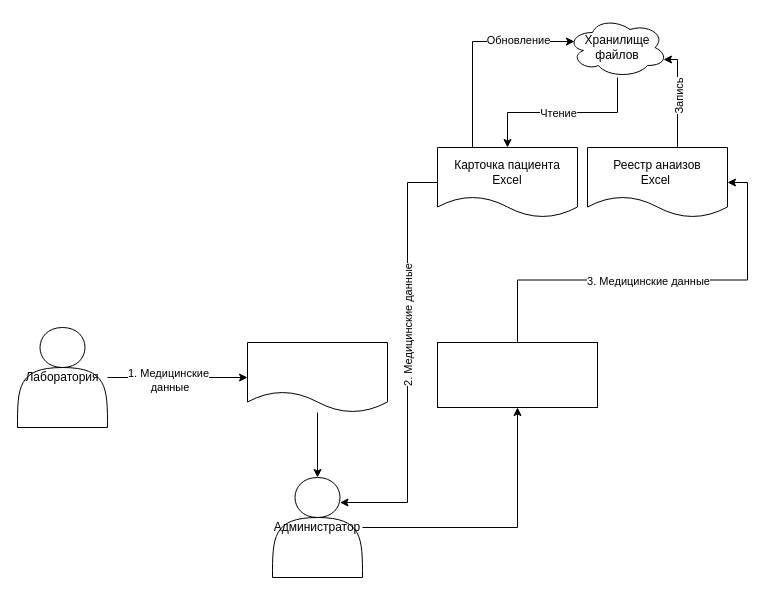
This 773x595 diagram has some shape labels left out. Each missing label, with the centre of its shape:
Идентификация и обновление данных в карточке пациента и реестре анализов: [517,375]
Результаты анализов: [317,377]
